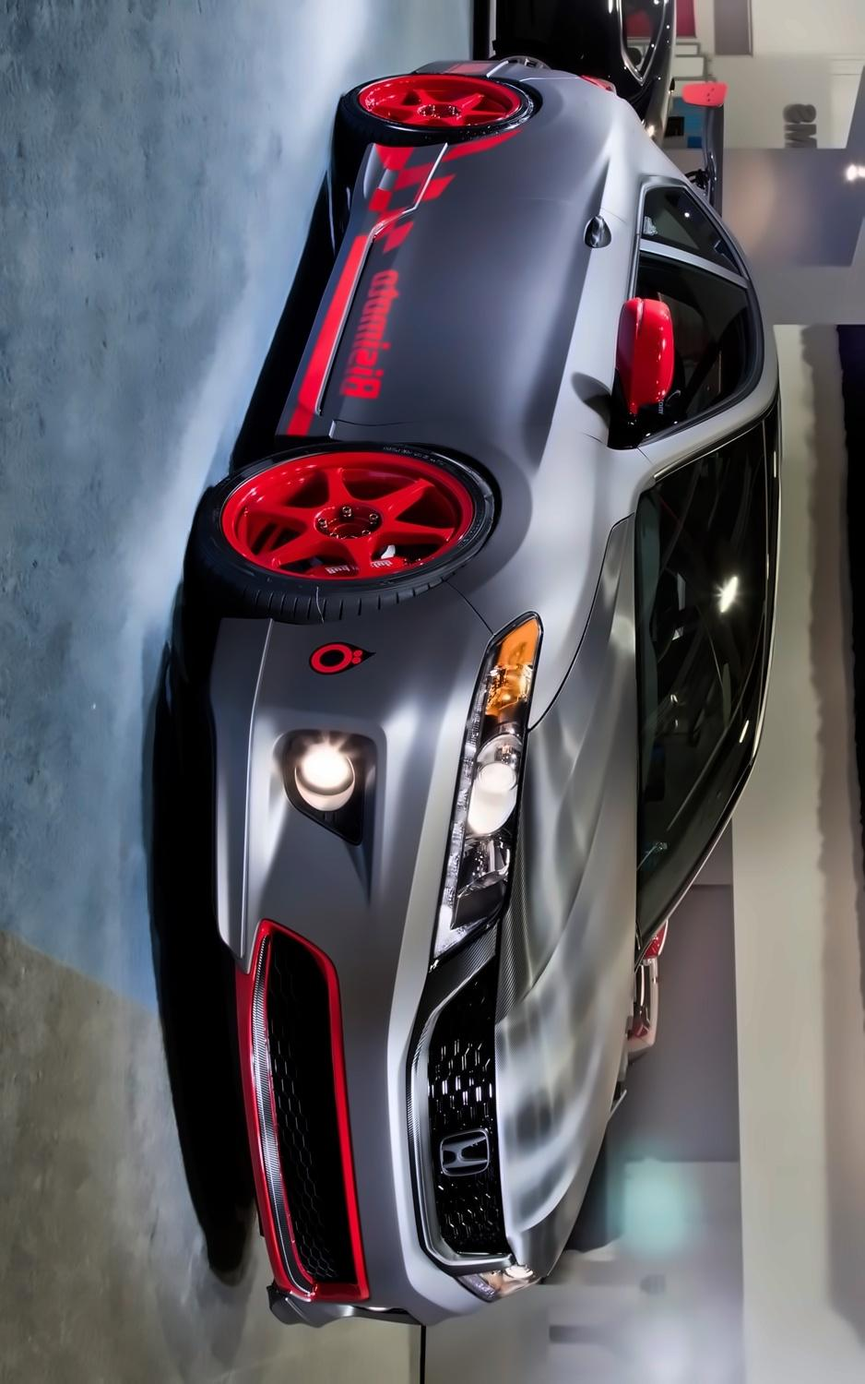Car hood: (489, 509, 653, 1293)
Driver-s door - -F-R-: (302, 182, 790, 419)
Fender - -F-R-: (243, 409, 664, 737)
Fender - -R-R-: (431, 93, 661, 176)
Front bumper: (188, 612, 418, 1355)
Headlight - -L-: (431, 1224, 544, 1327)
Headlight - -R-: (418, 597, 558, 978)
Rear bumper: (381, 37, 586, 100)
Rear light - -R-: (575, 50, 664, 117)
Side bumper - -R-: (262, 133, 460, 455)
Side mirror - -L-: (606, 898, 695, 986)
Side mirror - -R-: (601, 287, 689, 455)
